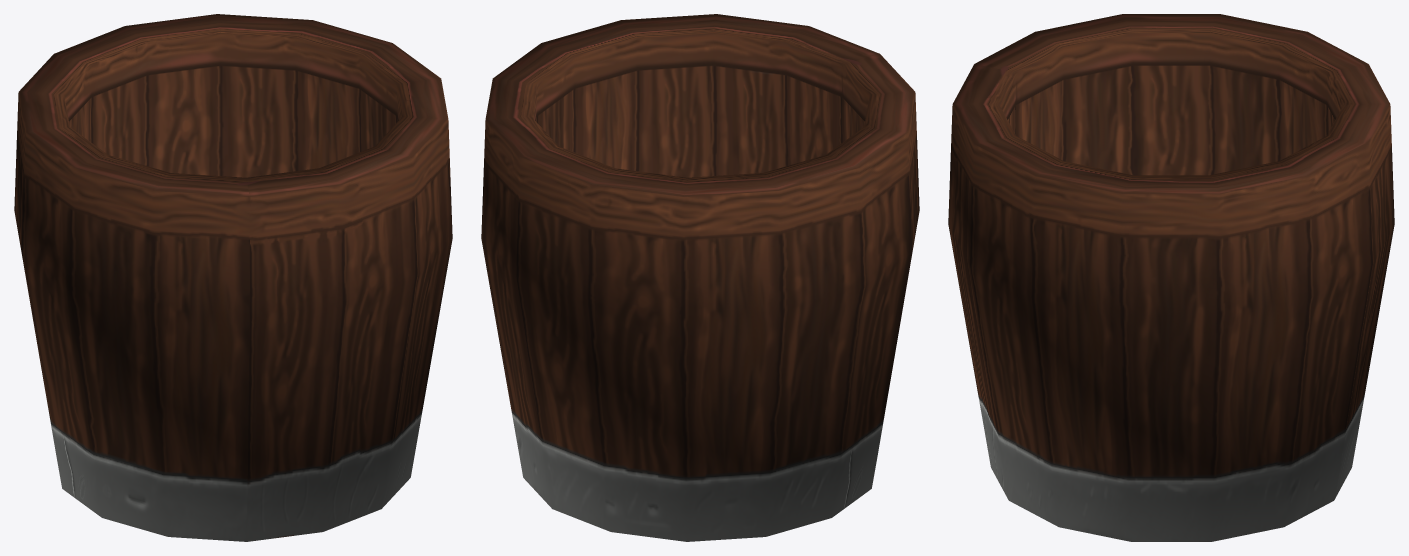
File: Balde.fbx
3 views of the same model, side by side, from view 1: azimuth 30°, elevation 25°; view 2: azimuth 150°, elevation 25°; view 3: azimuth 270°, elevation 25° (orthographic).
Visible parts, largest first — view 1: Cylinder; view 2: Cylinder; view 3: Cylinder.
Boxes of the visible parts, <box> form: Cylinder: <box>14,14,452,541</box>; Cylinder: <box>481,14,919,541</box>; Cylinder: <box>948,14,1394,541</box>.
Size of the model in its own units: 2.46 by 2.26 by 2.52.
